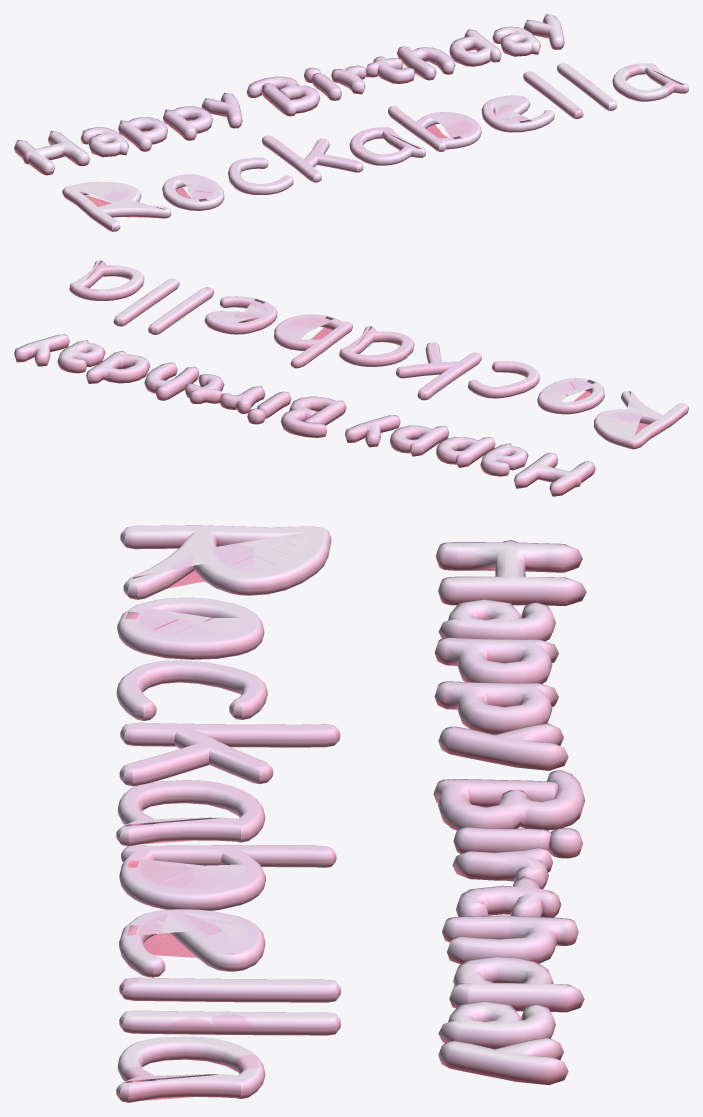
Rendered from rockatext.obj.
The picture shows the model from 3 angles, top to bottom: view 1: azimuth 30°, elevation 25°; view 2: azimuth 150°, elevation 25°; view 3: azimuth 270°, elevation 25°; orthographic projection. The views are drawn at different scales.
Parts seen in each view (by area): view 1: cakeText; view 2: cakeText; view 3: cakeText.
Part boxes in pixels (left/top/right/bottom): cakeText: left=14, top=14, right=688, bottom=231; cakeText: left=14, top=260, right=688, bottom=496; cakeText: left=116, top=525, right=586, bottom=1102.
Bounding box in the file's own units: 1.35 × 0.0295 × 0.4746.
Materials: 1 (1 with a texture image).
